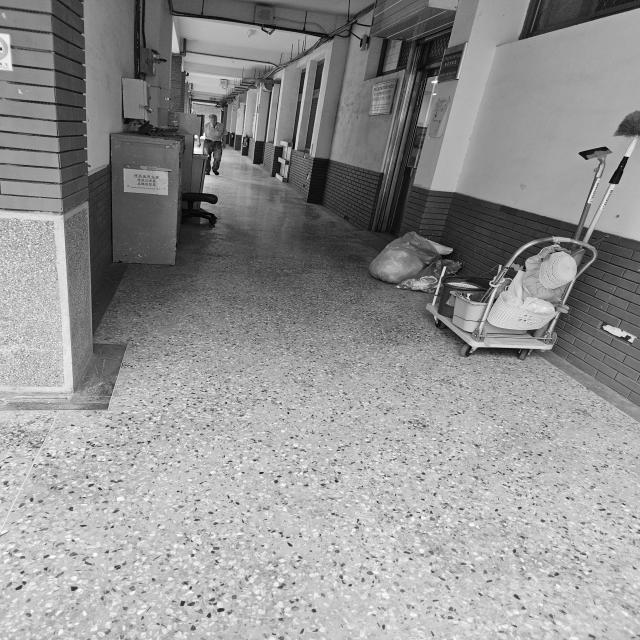Road-Object: (0, 149, 638, 640)
